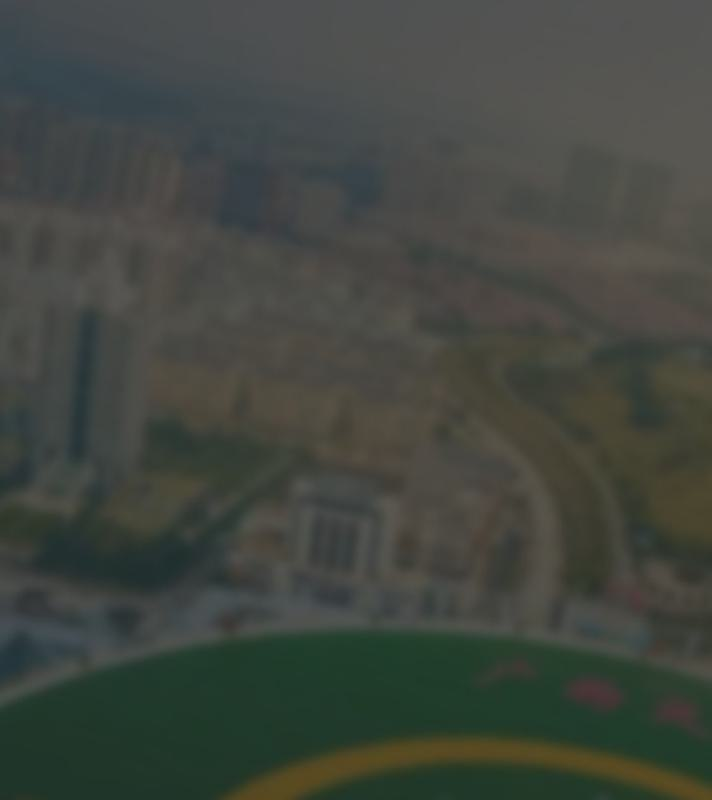Apron: (160, 683, 712, 800)
